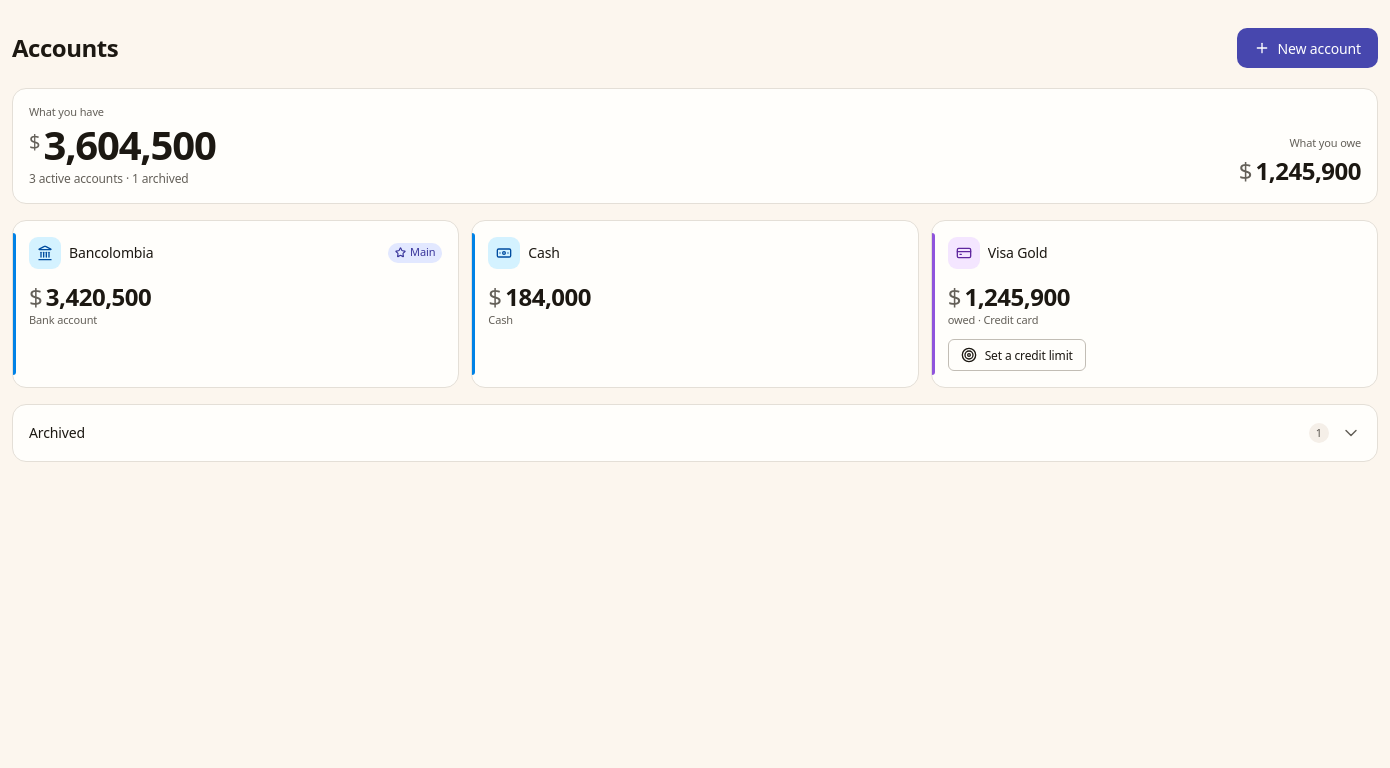
Test: AccountsView › says what you have and what you owe, and keeps archived accounts folded
The image size is (1390, 768).
Check: the text "3,604,500" is shown, box 44,117 -> 216,172
Check: the text "3 active accounts · 1 archived" is shown, box 29,170 -> 216,187
Click the button "Archived 1" at [57, 433], box 13,406 -> 1377,462
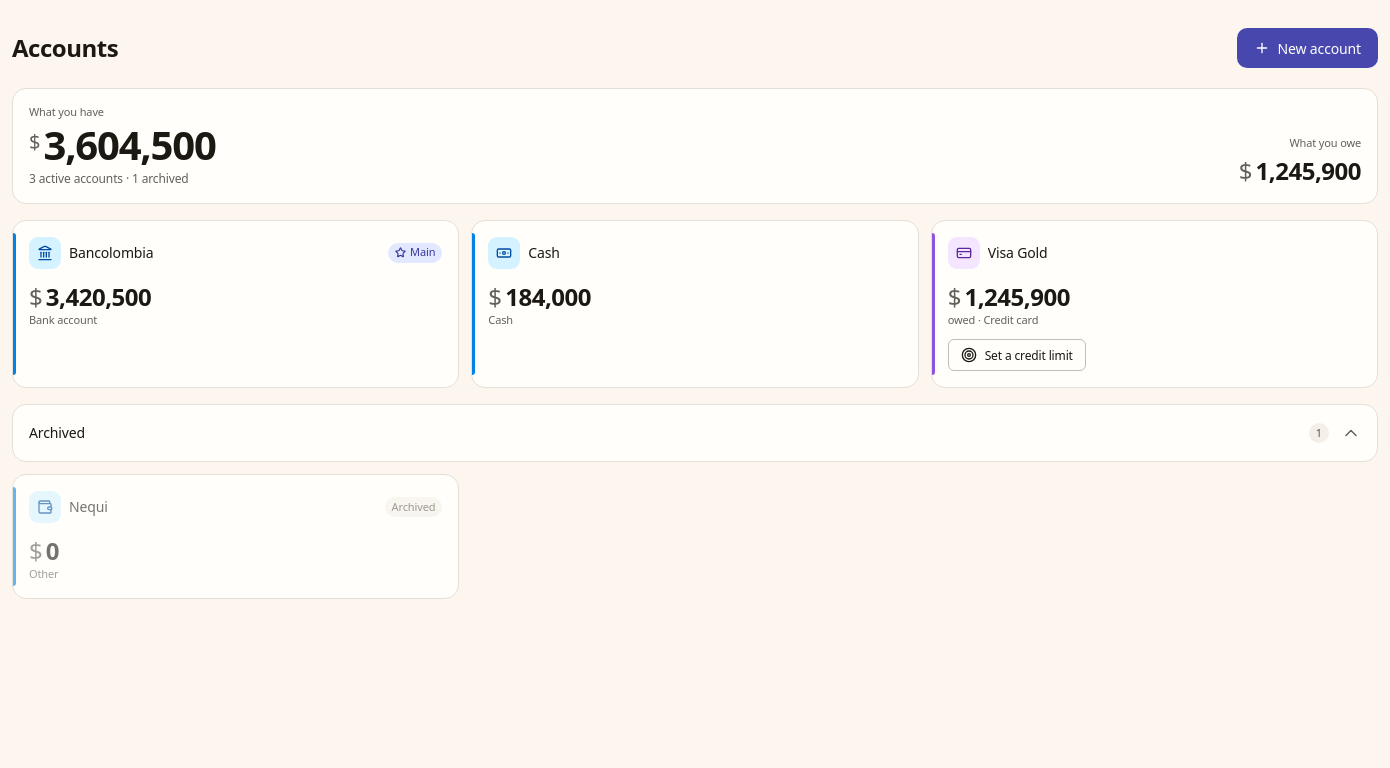
Check: the text "Archived" in the row of "Nequi" is shown, box 392,499 -> 435,514
